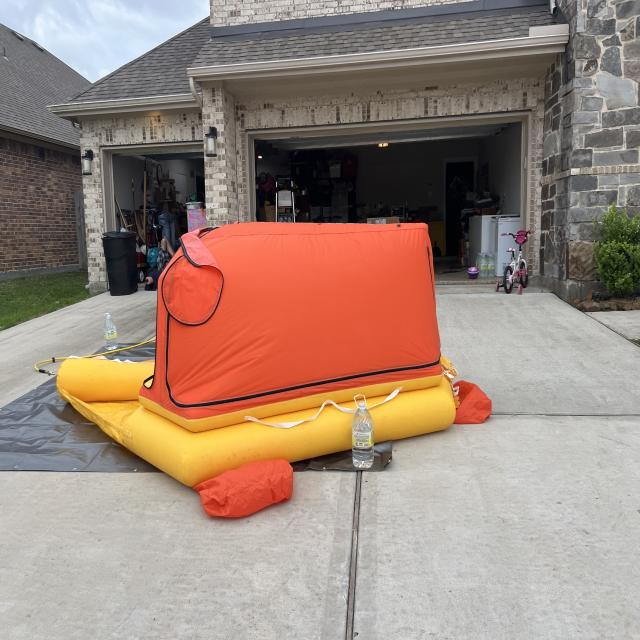Multi-person_life_raft: (57, 220, 492, 520)
